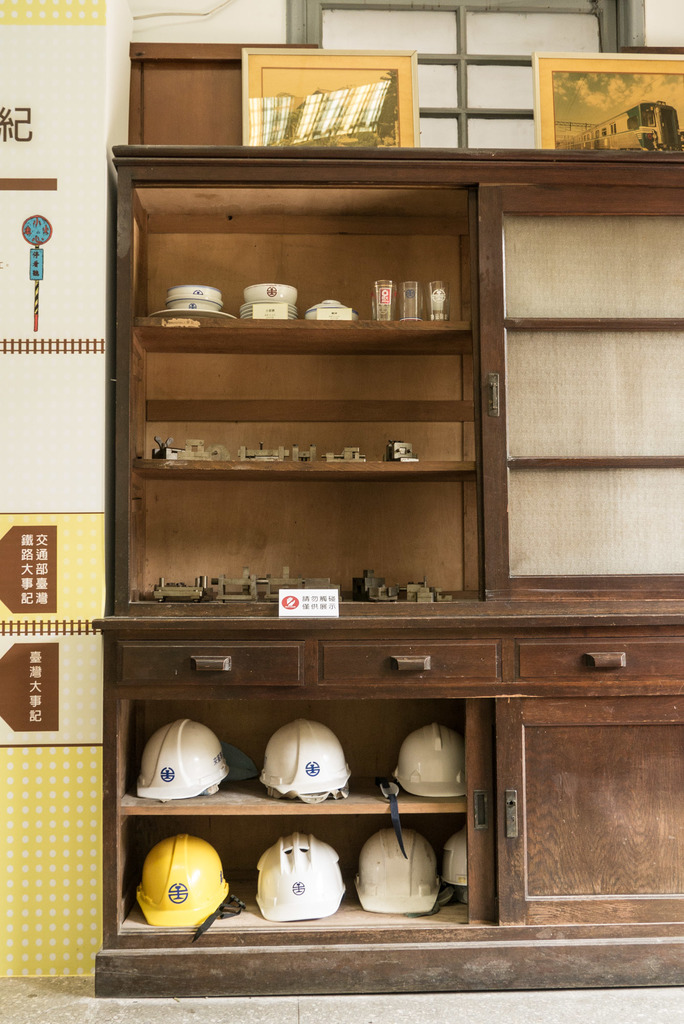cabinet door: (479, 196, 684, 592), (498, 703, 684, 920), (519, 637, 684, 690), (322, 641, 500, 690), (121, 643, 298, 688), (467, 704, 496, 912)
handle: (581, 646, 628, 681), (188, 641, 231, 678), (390, 647, 433, 684), (471, 784, 489, 829), (506, 784, 520, 838), (486, 375, 500, 422)
